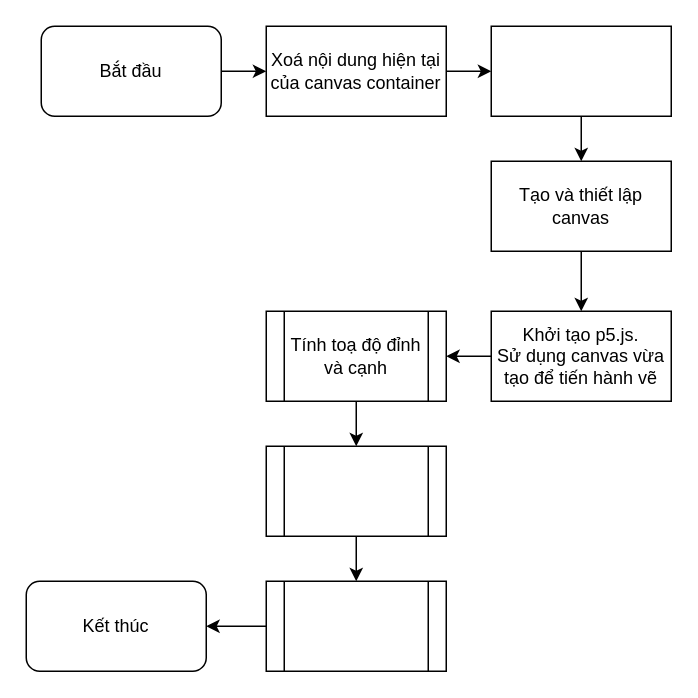
The diagram is 698 pixels wide and 698 high, and some of its shapes have lost their labels. The shapes that lost their labels are listed below. From the top down, each one's box as (x1, y1, x2, y2) in pixels, then its label:
(490, 25, 671, 116): Tính toán kích thước canvas
(265, 445, 446, 536): Vẽ đỉnh
(265, 580, 446, 671): Vẽ cạnh
